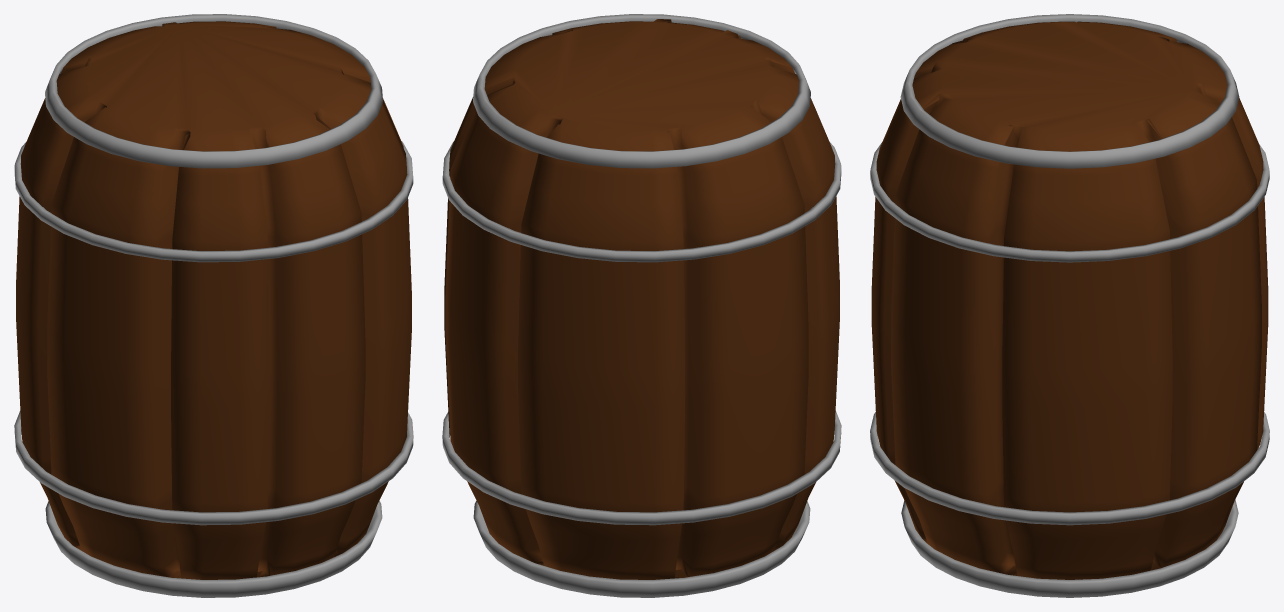
File: Barrel.fbx
3 renders of one model, left to right at view 1: azimuth 30°, elevation 25°; view 2: azimuth 150°, elevation 25°; view 3: azimuth 270°, elevation 25°, orthographic.
Parts seen in each view (by area): view 1: Barrel; view 2: Barrel; view 3: Barrel.
Boxes of the visible parts, <box> form: Barrel: <box>14,14,413,597</box>; Barrel: <box>442,14,841,597</box>; Barrel: <box>870,14,1269,597</box>.
Size of the model in its own units: 164 by 205 by 164.
